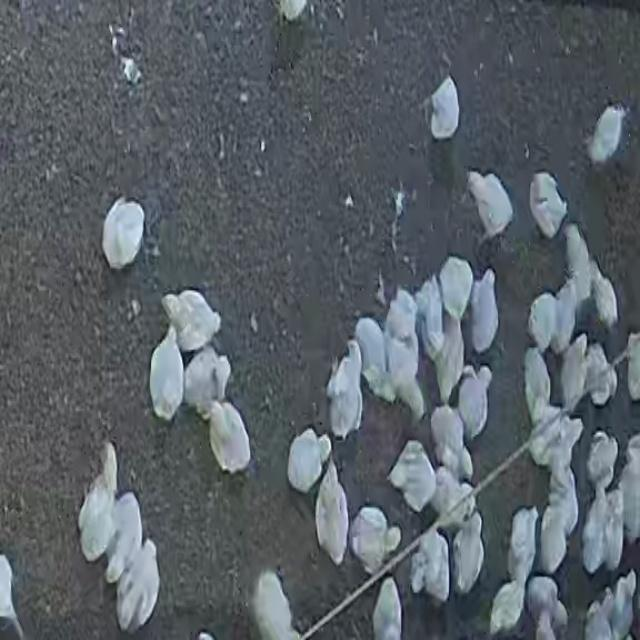chicken: (71, 443, 120, 564), (307, 460, 347, 564), (118, 540, 161, 632), (251, 570, 307, 640), (161, 291, 221, 354), (326, 341, 363, 438), (149, 325, 185, 421), (101, 196, 145, 270), (466, 170, 513, 239), (207, 402, 252, 474), (108, 492, 144, 582), (428, 319, 469, 398), (409, 526, 452, 600), (347, 509, 399, 569), (389, 443, 431, 516), (389, 332, 425, 417), (286, 428, 332, 493), (583, 102, 629, 166), (354, 315, 389, 399), (184, 346, 226, 415), (452, 509, 486, 593), (429, 404, 466, 478), (457, 365, 492, 443), (470, 267, 500, 354), (618, 427, 640, 543), (531, 417, 584, 464), (432, 468, 474, 526), (525, 574, 567, 630), (507, 508, 538, 583), (426, 81, 464, 142), (531, 172, 565, 239), (552, 466, 580, 543), (489, 580, 527, 636), (559, 336, 587, 410), (523, 347, 551, 421), (417, 276, 444, 352), (582, 483, 605, 572), (605, 572, 636, 638), (439, 252, 470, 317), (1, 555, 26, 635), (528, 292, 560, 353), (553, 277, 580, 349), (583, 344, 614, 406), (372, 577, 403, 639), (590, 268, 618, 330), (568, 222, 591, 296), (582, 596, 616, 640), (591, 428, 614, 490), (604, 498, 626, 562), (625, 335, 640, 401)
